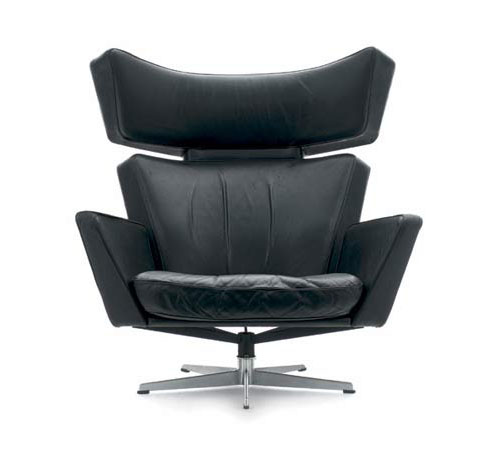chairs: (63, 47, 423, 409)
